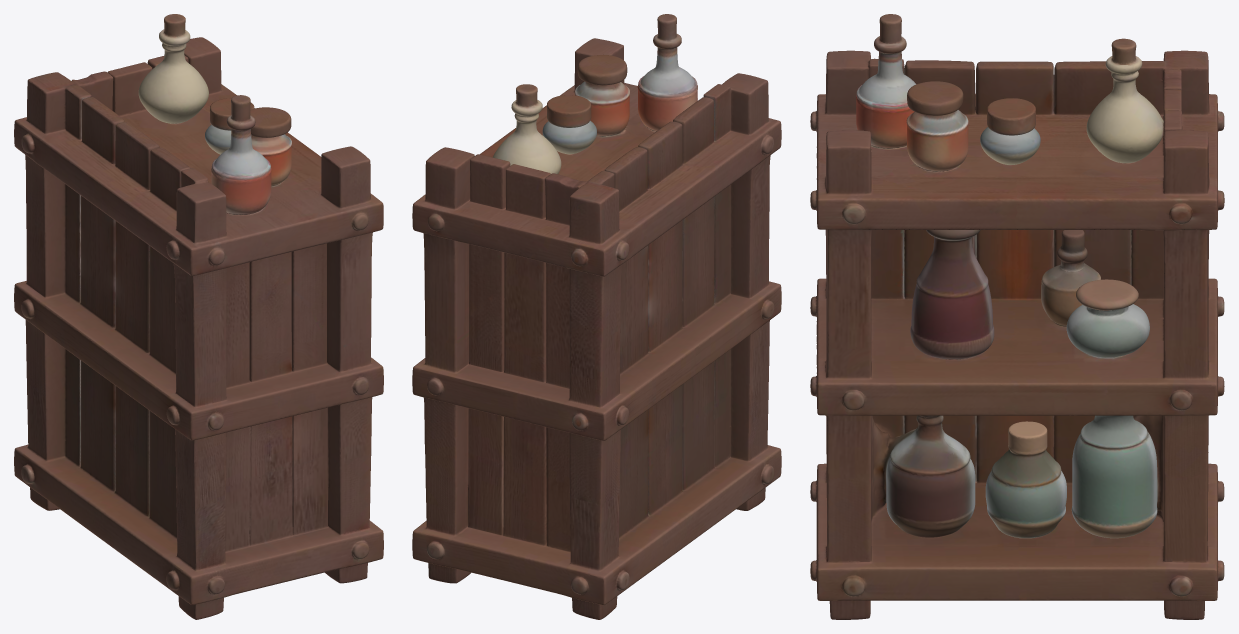
File: detailed_realistic_model_potionshelf_02.glb
3 renders of one model, left to right at view 1: azimuth 30°, elevation 25°; view 2: azimuth 150°, elevation 25°; view 3: azimuth 270°, elevation 25°, orthographic. The views are drawn at different scales.
Parts seen in each view (by area): view 1: tripo_node_613d55cb-d496-422d-b285-e3bffe3036bc; view 2: tripo_node_613d55cb-d496-422d-b285-e3bffe3036bc; view 3: tripo_node_613d55cb-d496-422d-b285-e3bffe3036bc.
Part boxes in pixels (x1,y1,x2,y2): tripo_node_613d55cb-d496-422d-b285-e3bffe3036bc: (14,14,383,619); tripo_node_613d55cb-d496-422d-b285-e3bffe3036bc: (412,14,781,619); tripo_node_613d55cb-d496-422d-b285-e3bffe3036bc: (810,14,1224,619).
Size of the model in its own units: 0.4387 by 1 by 0.685.
Materials: 1 (1 with a texture image).
